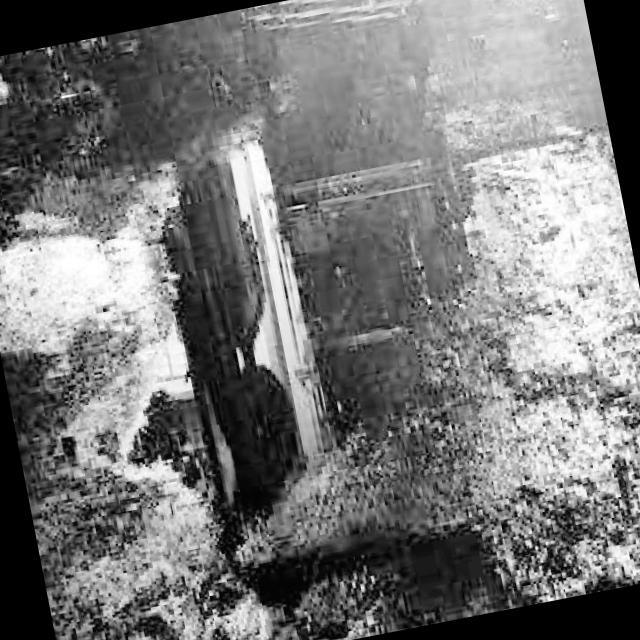Pothole: (44, 7, 538, 561)
